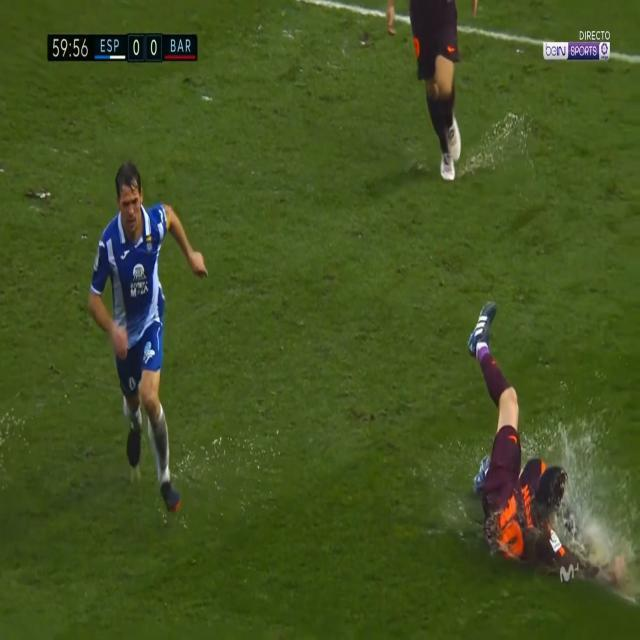player: (88, 133, 206, 556), (462, 294, 599, 598), (380, 8, 482, 204)
